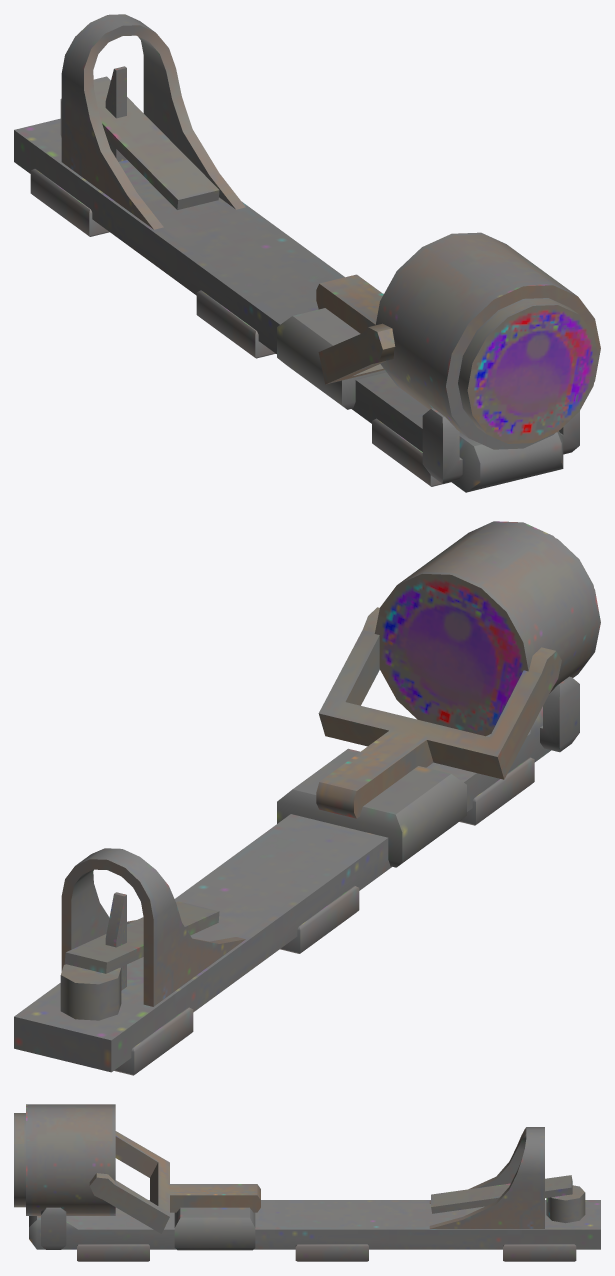
Rendered from sight1.obj.
3 views of the same model, one above another, from view 1: azimuth 30°, elevation 25°; view 2: azimuth 150°, elevation 25°; view 3: azimuth 270°, elevation 25° (orthographic). The views are drawn at different scales.
Parts seen in each view (by area): view 1: sight1; view 2: sight1; view 3: sight1.
Part boxes in pixels (x1=…): sight1: x1=14, y1=14, x2=600, y2=492; sight1: x1=14, y1=521, x2=600, y2=1075; sight1: x1=14, y1=1104, x2=600, y2=1261.
Bounding box in the file's own units: 5.38 × 6.3 × 24.47.
